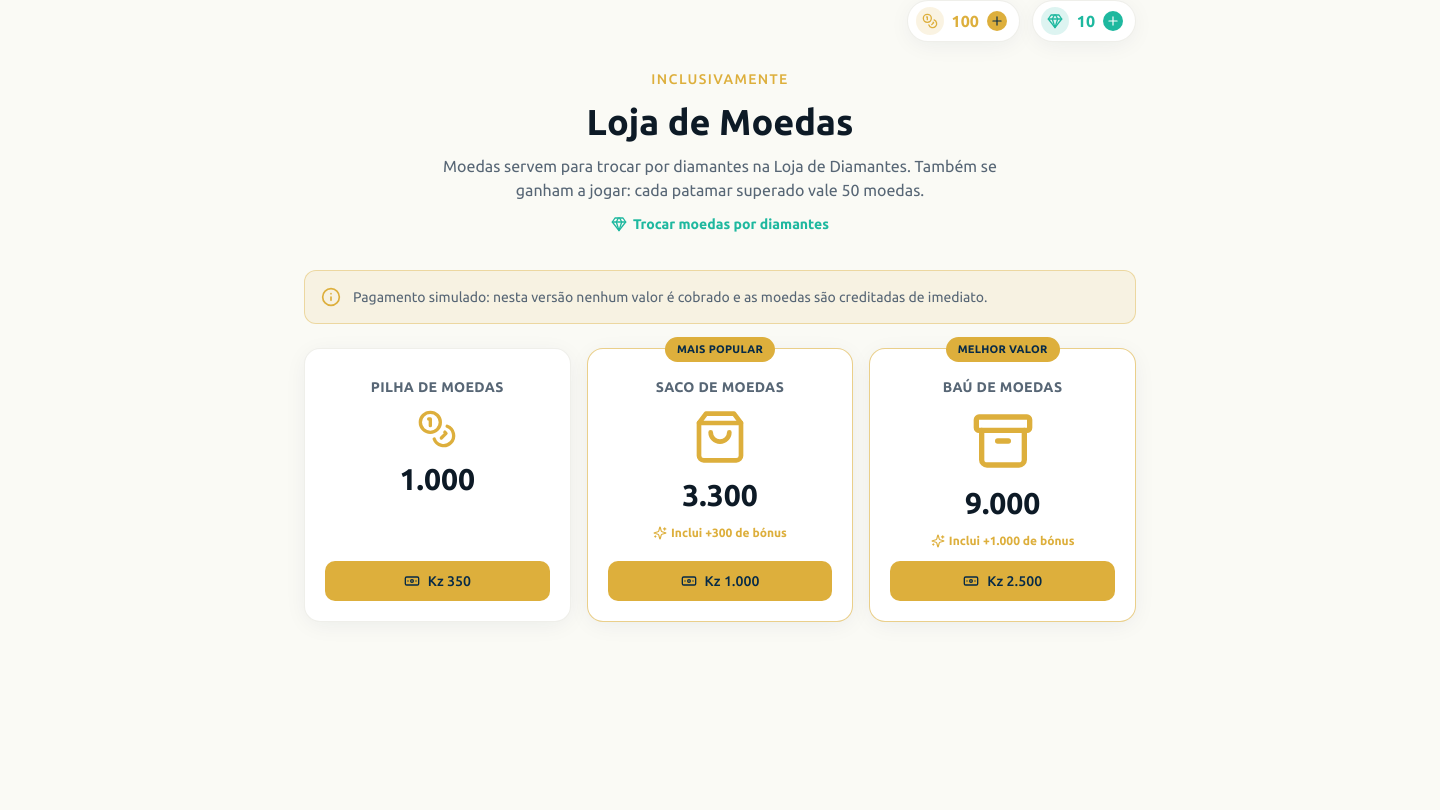
it: LojaMoedas › modo simulado (desenvolvimento): credita logo pela resposta da API e actualiza a barra
Expected: the link named "Moedas" reads "100", [906,0,1020,42]
What coordinates should you click on to do the following:
click the button with aria-label "Comprar 1.000 moedas"
I would click on:
 (437, 581)
Its box is [325,561,550,601].
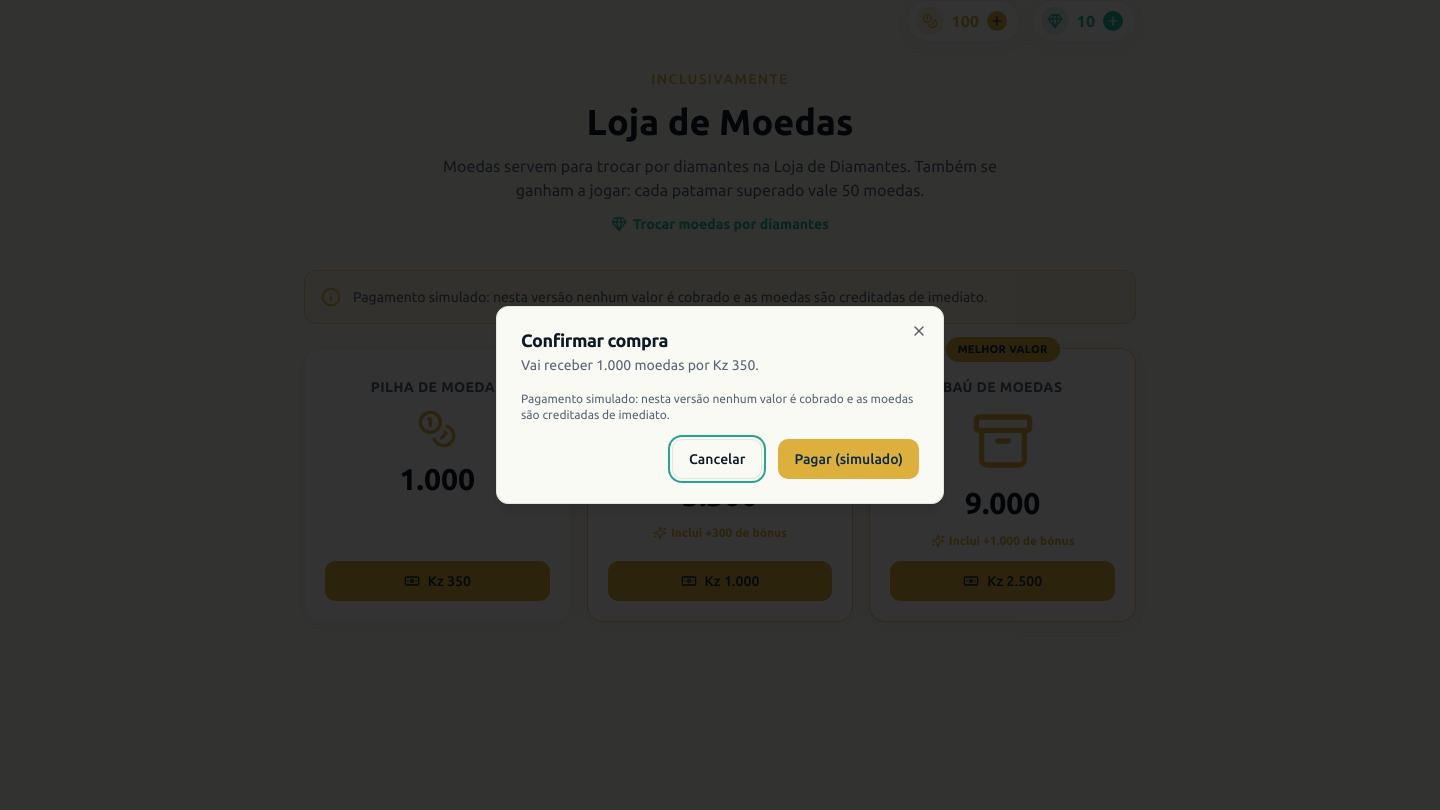
What coordinates should you click on to do the following:
click the button "Pagar (simulado)"
I would click on:
 (849, 459)
Its box is [778,439,919,479].
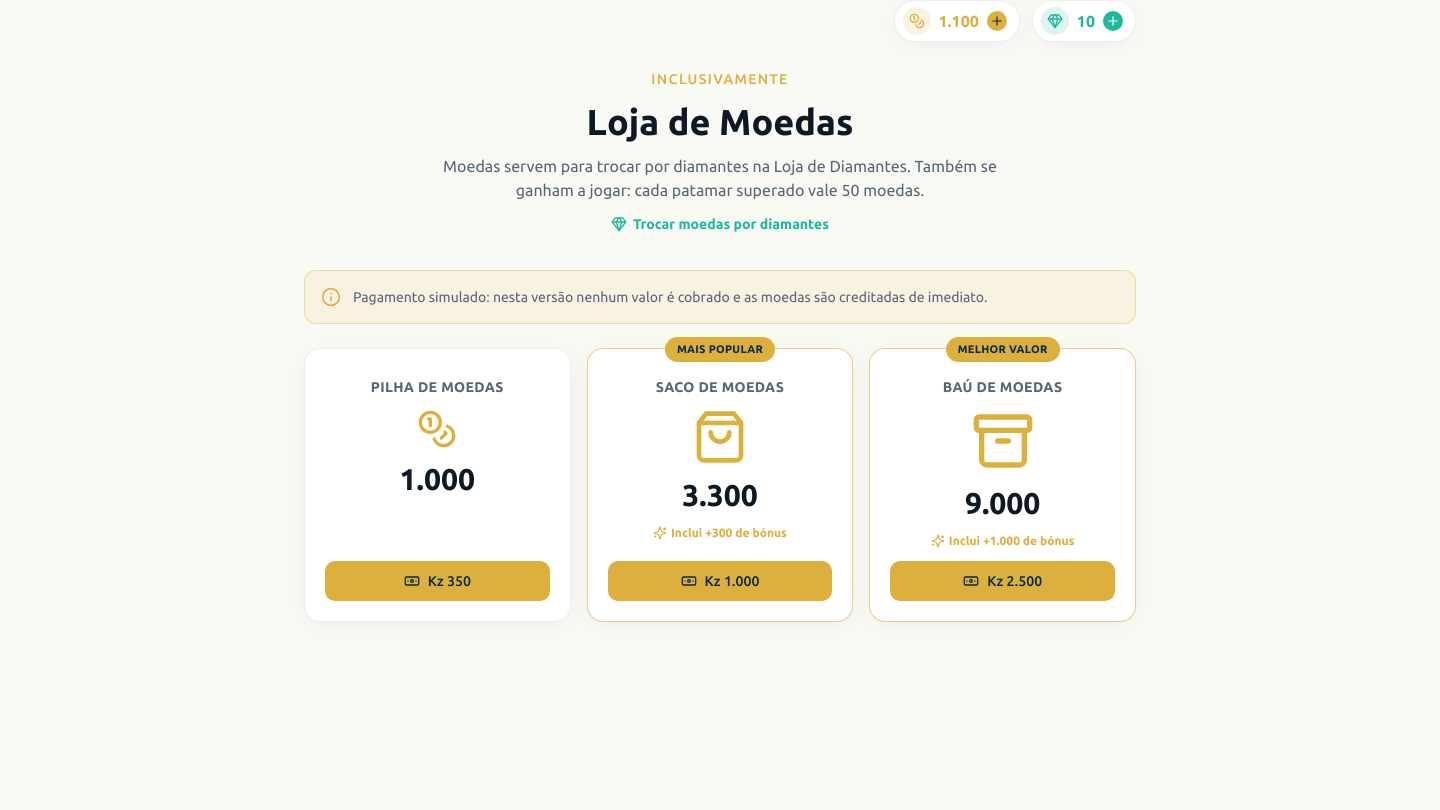
Now the link named "Moedas" reads "1.100", box [894,0,1020,42]
